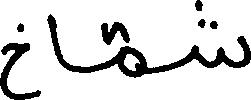X: (196, 0, 250, 72), (0, 18, 29, 99), (118, 17, 144, 82), (49, 9, 64, 72)
